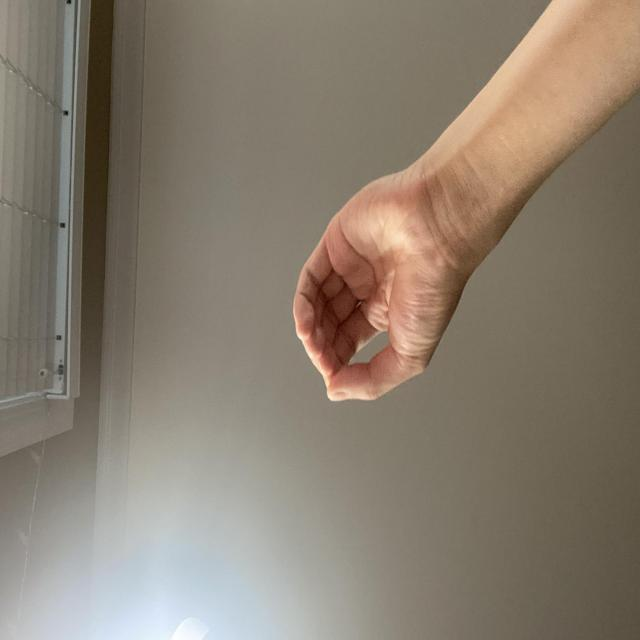O: (172, 382, 360, 626)
